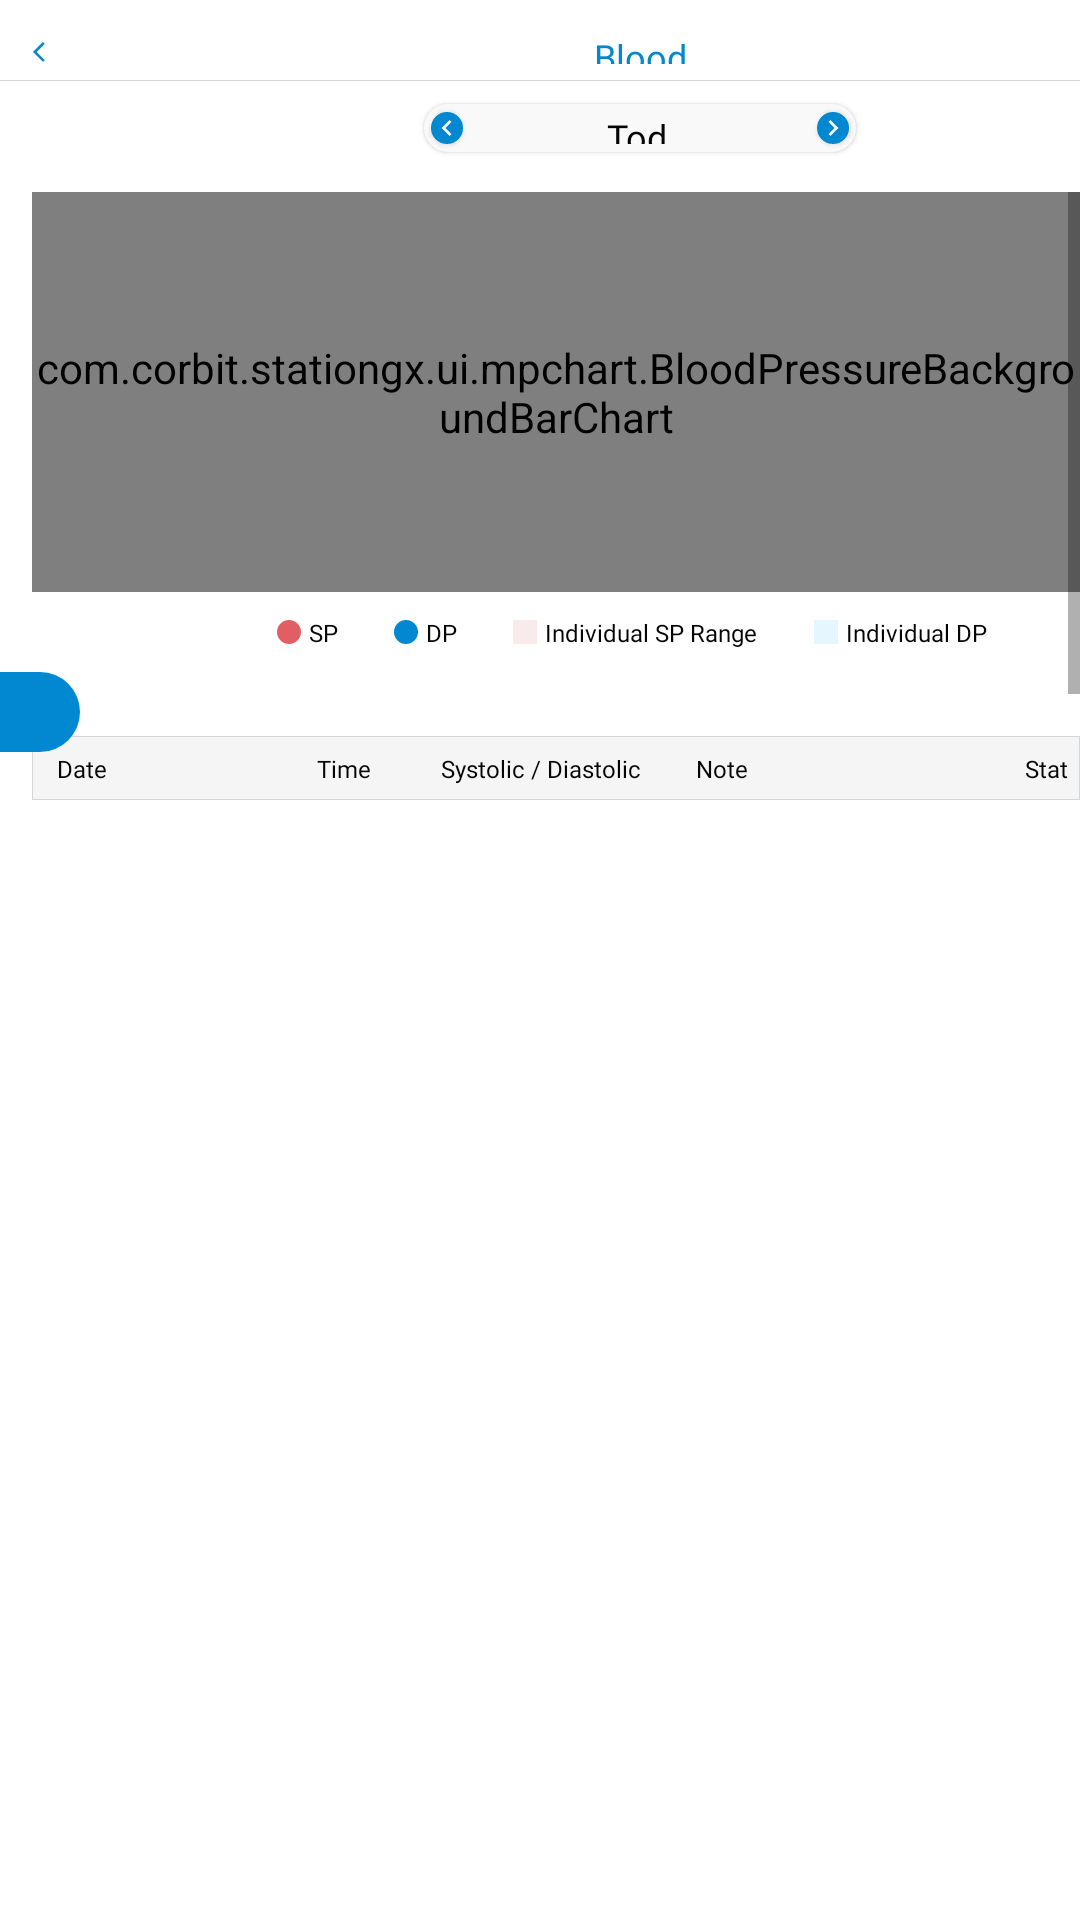

Point at icon controls on the screen. Image size 1080 x 1920, points as (x=x, y=y).
keyboard arrow left: (x=447, y=128)
keyboard arrow right: (x=833, y=128)
